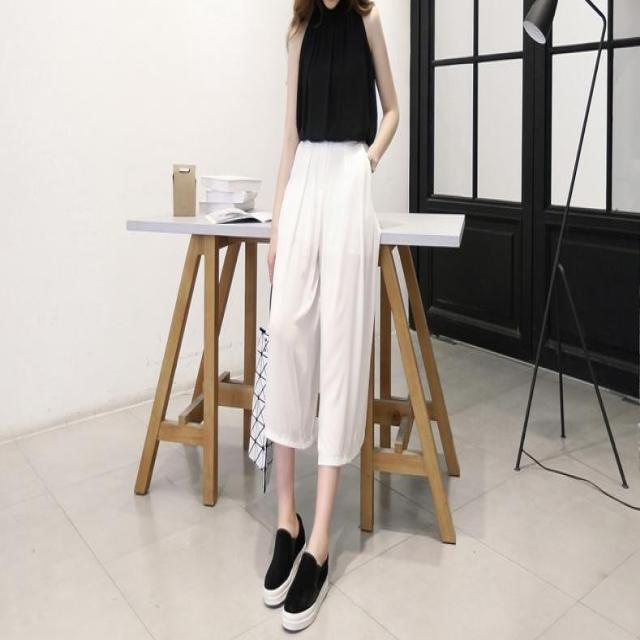trousers: (264, 140, 380, 464)
vest: (298, 0, 376, 140)
